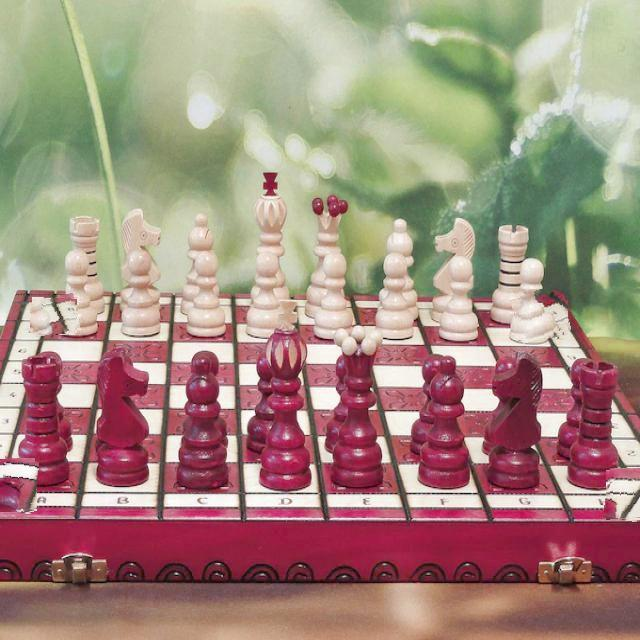chess-table-corners: (513, 289, 568, 341), (0, 457, 37, 513), (30, 295, 79, 335), (604, 468, 640, 521)
